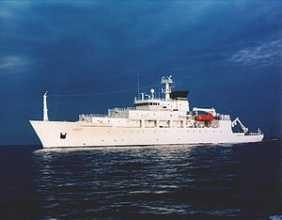warship: (25, 75, 266, 149)
